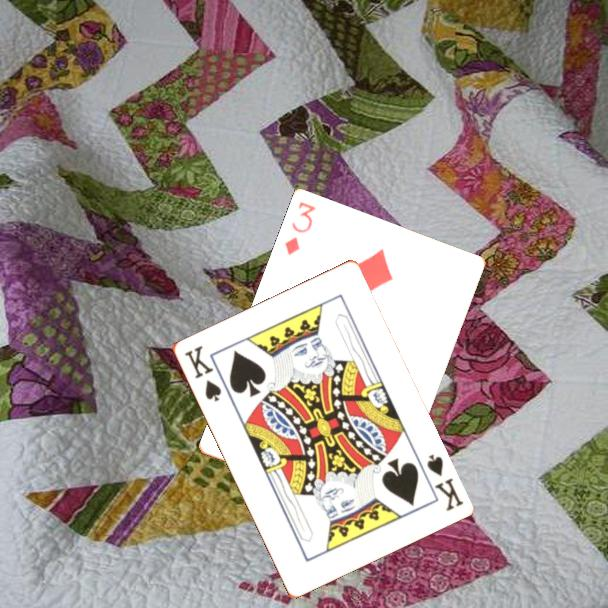d03: (281, 199, 319, 259)
s13: (423, 450, 466, 514), (181, 342, 224, 405)
